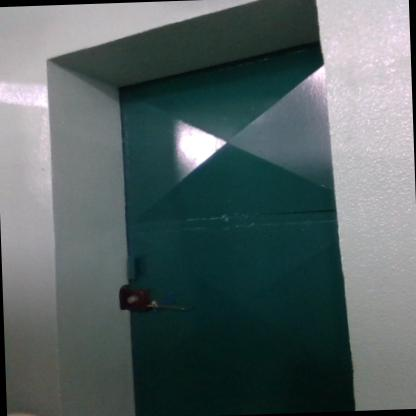closed: (82, 47, 358, 416)
